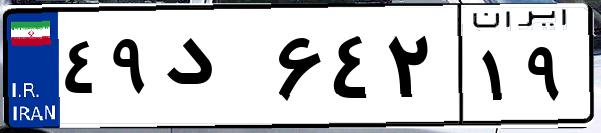1: (475, 38, 525, 113)
2: (385, 28, 445, 110)
4: (330, 28, 385, 110), (57, 26, 110, 100)
6: (270, 28, 330, 110)
9: (525, 38, 570, 115), (110, 28, 158, 98)
د: (158, 20, 270, 120)
